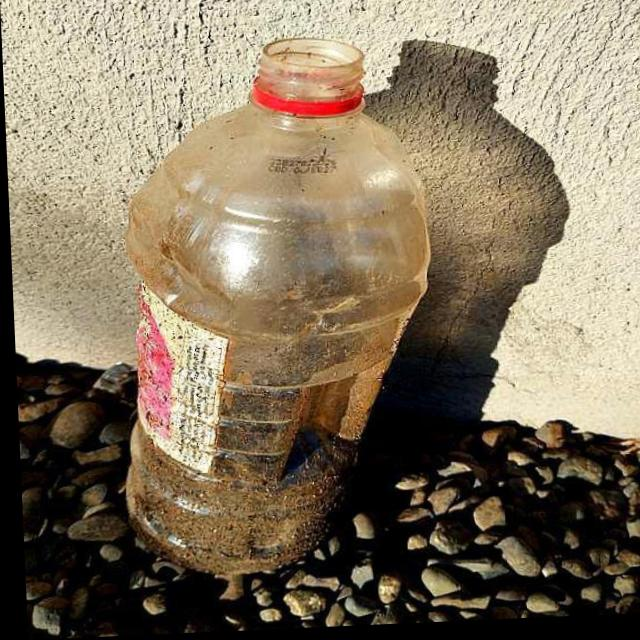Non-biodegradable: (107, 36, 442, 579)
